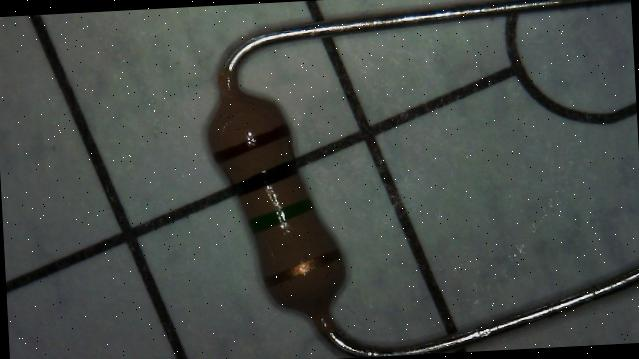black: (228, 161, 297, 196)
brown: (210, 124, 290, 162)
gold: (263, 251, 340, 287)
green: (246, 198, 313, 234)
resistor: (174, 74, 375, 339)
